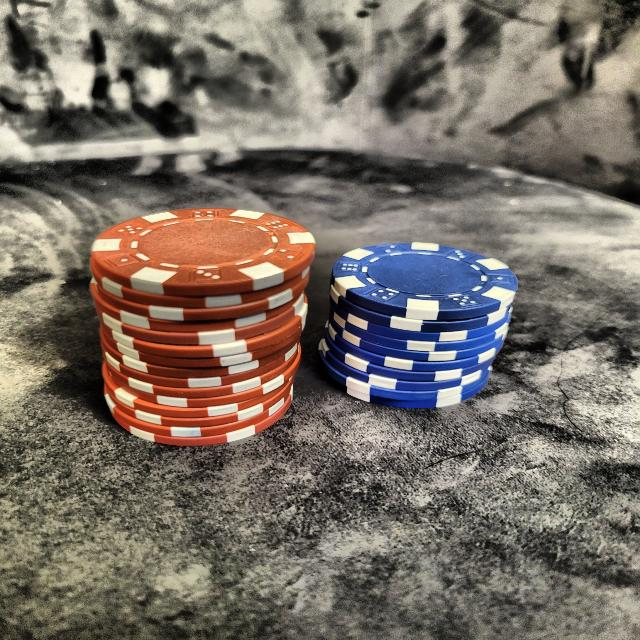Chip: (86, 189, 328, 442), (325, 222, 524, 419)
